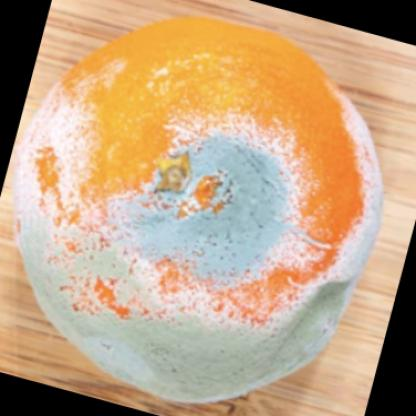rotten: (18, 20, 386, 409)
